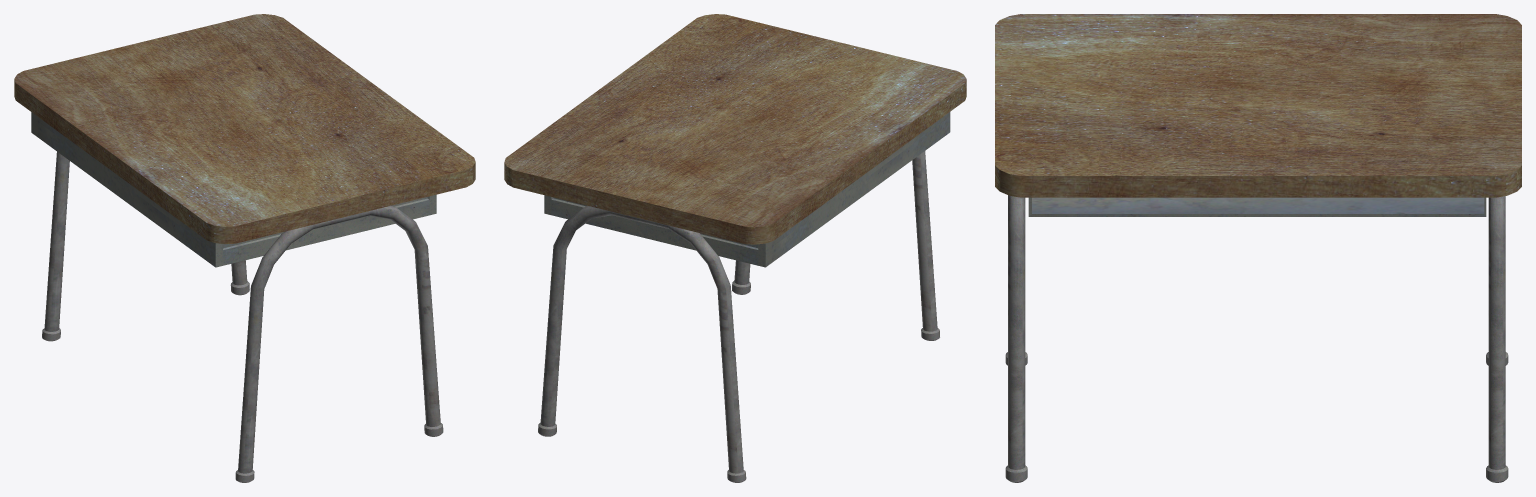
The model's file is Desk1_normal.fbx.
3 views of the same model, side by side, from view 1: azimuth 30°, elevation 25°; view 2: azimuth 150°, elevation 25°; view 3: azimuth 270°, elevation 25° (orthographic). The views are drawn at different scales.
Visible parts, largest first — view 1: polySurface13; view 2: polySurface13; view 3: polySurface13.
Boxes of the visible parts, box(x1,y1,x2,y2) form: polySurface13: box(14, 14, 475, 482); polySurface13: box(504, 14, 966, 482); polySurface13: box(995, 14, 1521, 482).
Size of the model in its own units: 19 by 17.96 by 26.1.
